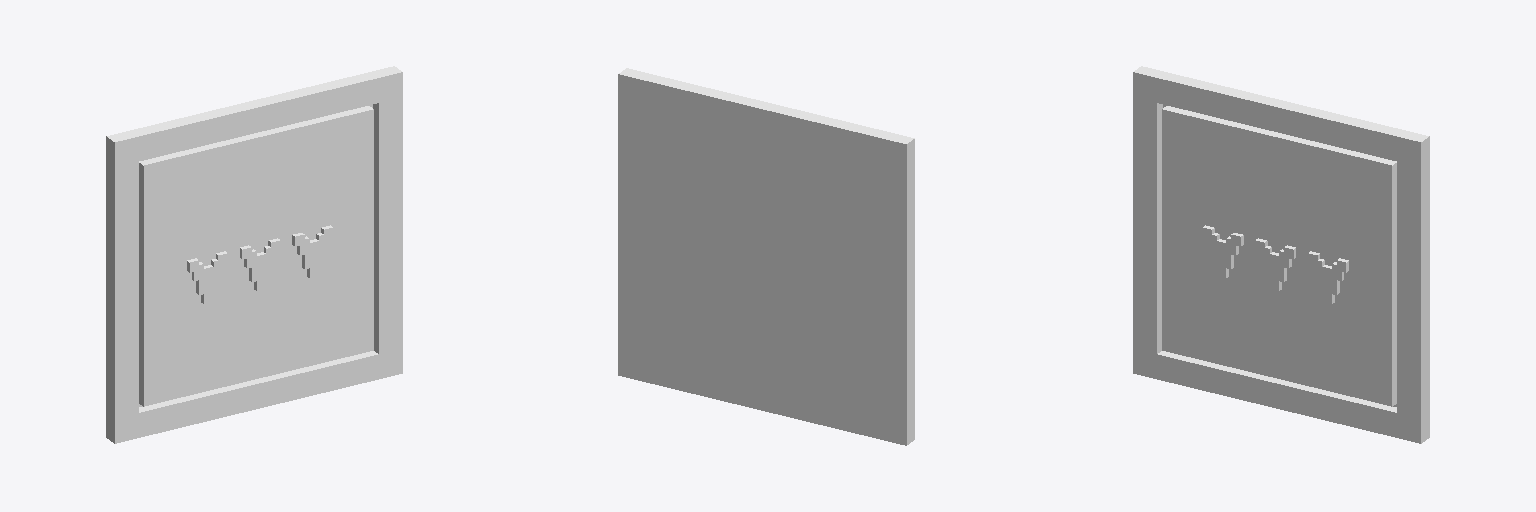
File: balpan_3.obj
3 views of the same model, side by side, from view 1: azimuth 30°, elevation 25°; view 2: azimuth 150°, elevation 25°; view 3: azimuth 330°, elevation 25° (orthographic).
Parts seen in each view (by area): view 1: balpan_3; view 2: balpan_3; view 3: balpan_3.
Part boxes in pixels (left/top/right/bottom): balpan_3: left=106, top=66, right=402, bottom=443; balpan_3: left=618, top=68, right=914, bottom=445; balpan_3: left=1133, top=66, right=1429, bottom=443.
Size of the model in its own units: 60 by 60 by 4.